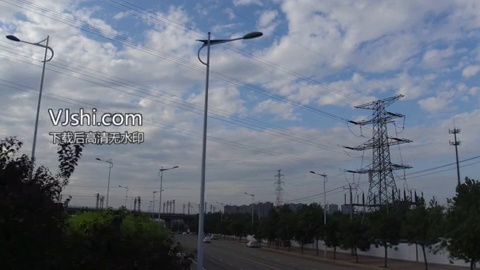tower_body: (346, 89, 414, 203)
tower_foot: (367, 171, 400, 199)
tower_head: (349, 92, 410, 125)
